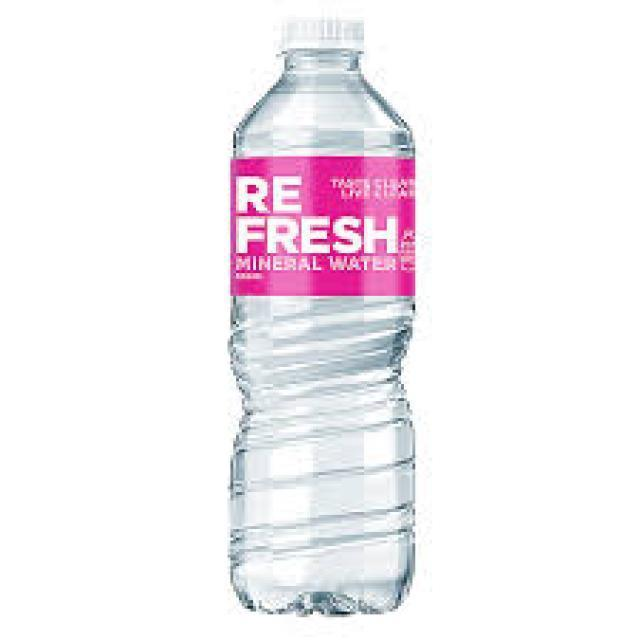bottle: (183, 16, 459, 622)
